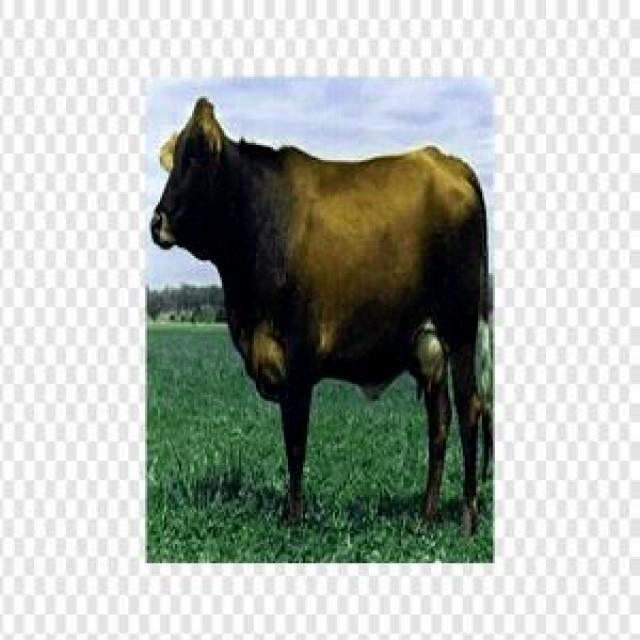COW: (151, 99, 488, 533)
